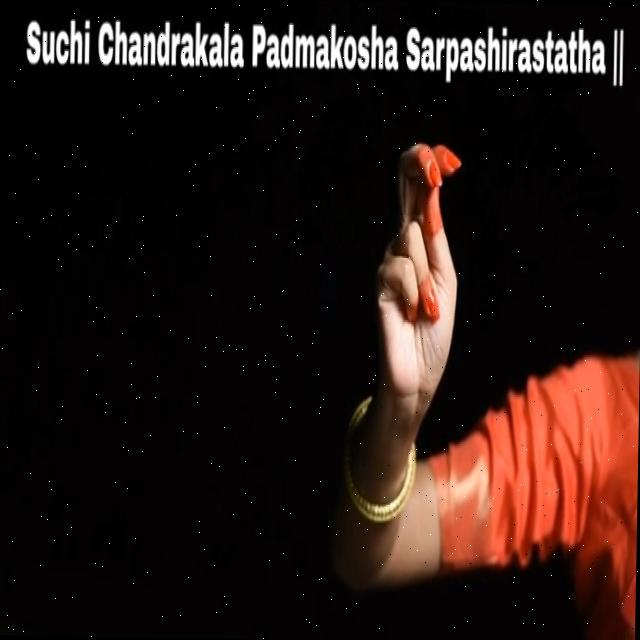Katakamukha: (358, 96, 488, 444)
bangle: (331, 439, 424, 538)
text: (20, 5, 633, 104)
